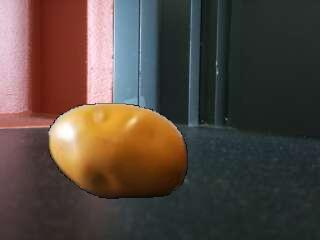Potato: (47, 101, 191, 202)
